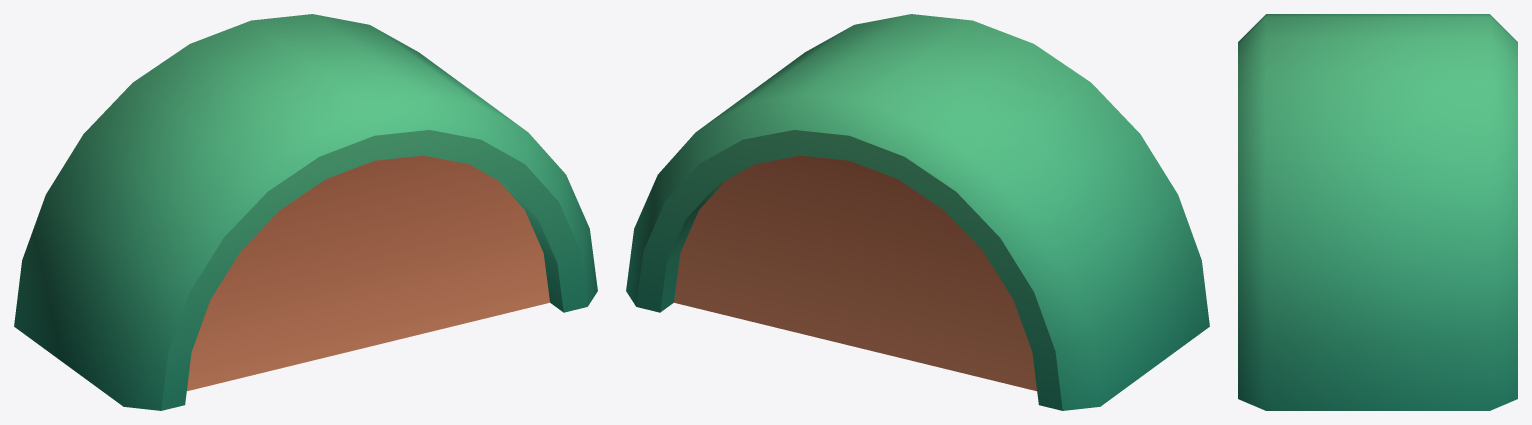
The model's file is block-grass-curve.glb.
The picture shows the model from 3 angles, left to right: view 1: azimuth 30°, elevation 25°; view 2: azimuth 150°, elevation 25°; view 3: azimuth 270°, elevation 25°; orthographic projection. The views are drawn at different scales.
Parts seen in each view (by area): view 1: block-grass-curve; view 2: block-grass-curve; view 3: block-grass-curve.
Boxes of the visible parts, left/top/right/bottom form: block-grass-curve: left=14, top=14, right=597, bottom=410; block-grass-curve: left=626, top=14, right=1209, bottom=410; block-grass-curve: left=1238, top=14, right=1517, bottom=410.
Size of the model in its own units: 2 by 1 by 1.
Materials: 1 (1 with a texture image).
